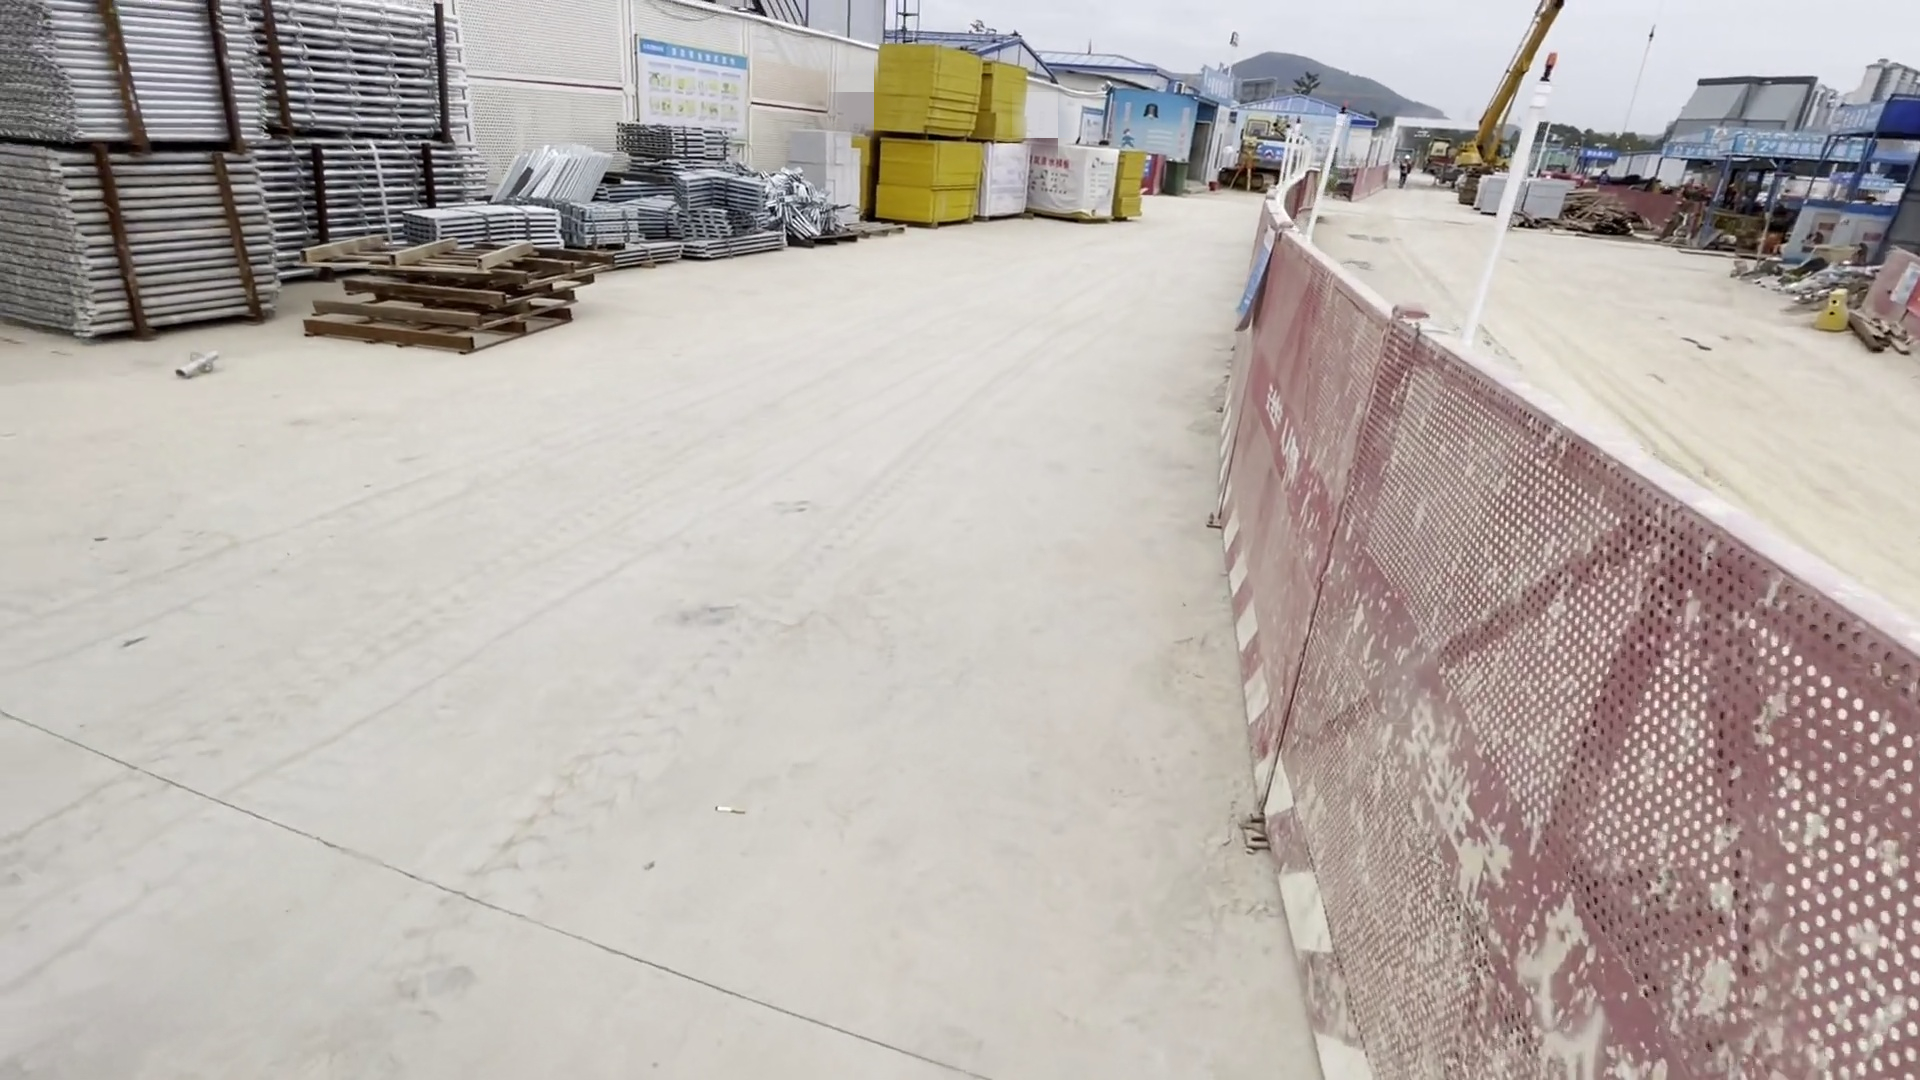board: (862, 40, 1000, 229)
fence: (1241, 218, 1915, 1080)
scaffold: (1, 1, 491, 294), (434, 138, 860, 277)
slogan: (1683, 127, 1851, 167)
